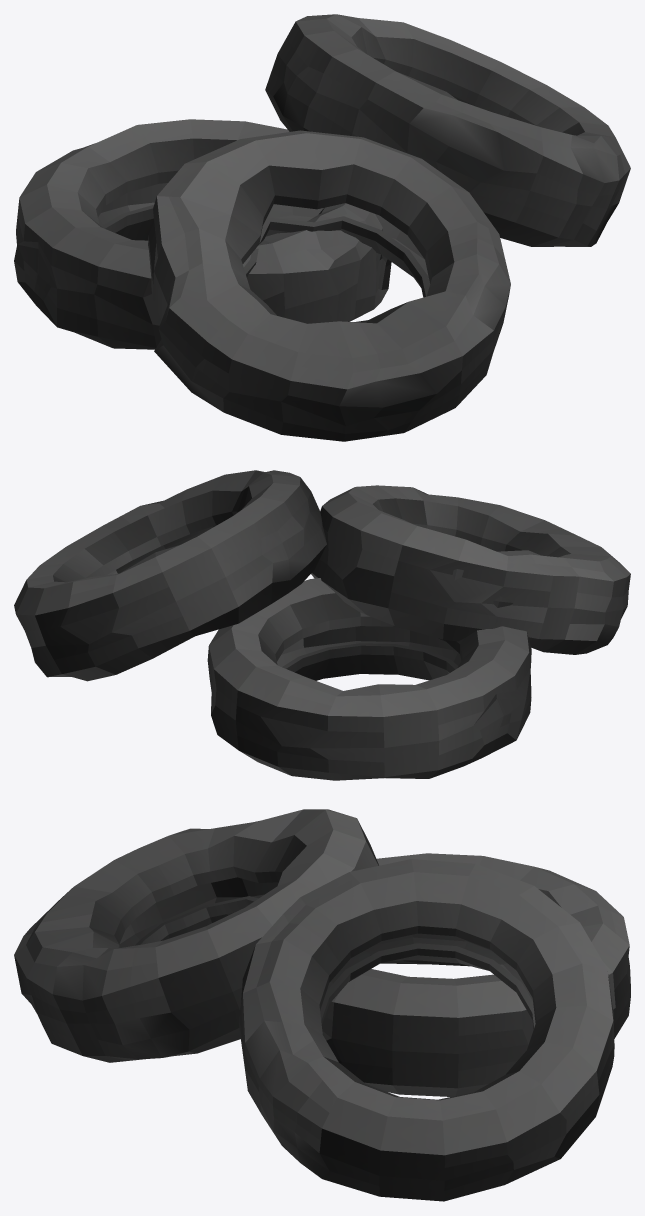
File: tire_cluster_2.glb
3 renders of one model, top to bottom at view 1: azimuth 30°, elevation 25°; view 2: azimuth 150°, elevation 25°; view 3: azimuth 270°, elevation 25°, orthographic. The views are drawn at different scales.
Parts seen in each view (by area): view 1: tire_cluster_2; view 2: tire_cluster_2; view 3: tire_cluster_2.
Boxes of the visible parts, x1,y1,x2,y2 form: tire_cluster_2: (14, 14, 630, 441); tire_cluster_2: (14, 470, 630, 780); tire_cluster_2: (14, 809, 630, 1201).
Bounding box in the file's own units: 1.96 × 0.7551 × 1.85.
1 material, 1 textured.
